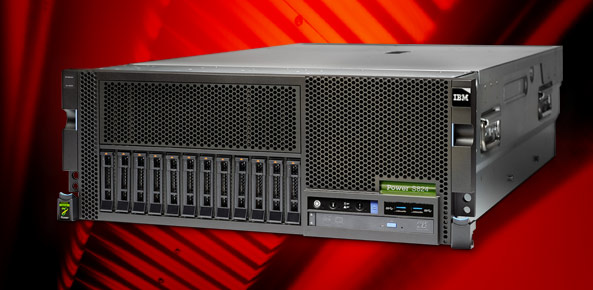ibm-server: (52, 37, 568, 253)
